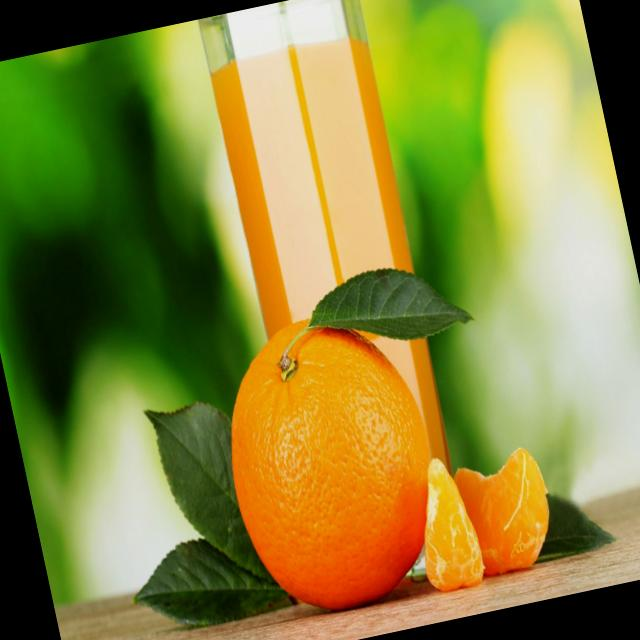orange: (195, 294, 471, 640)
